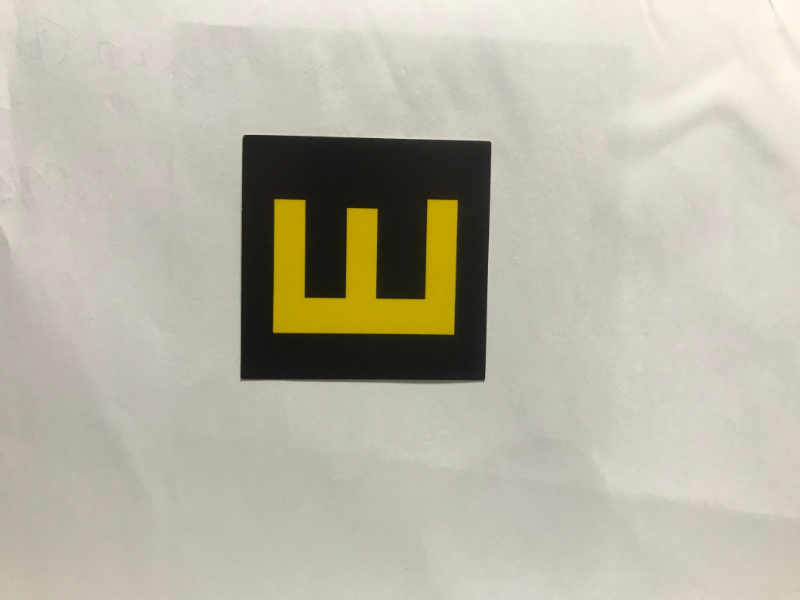E-15: (248, 145, 482, 377)
